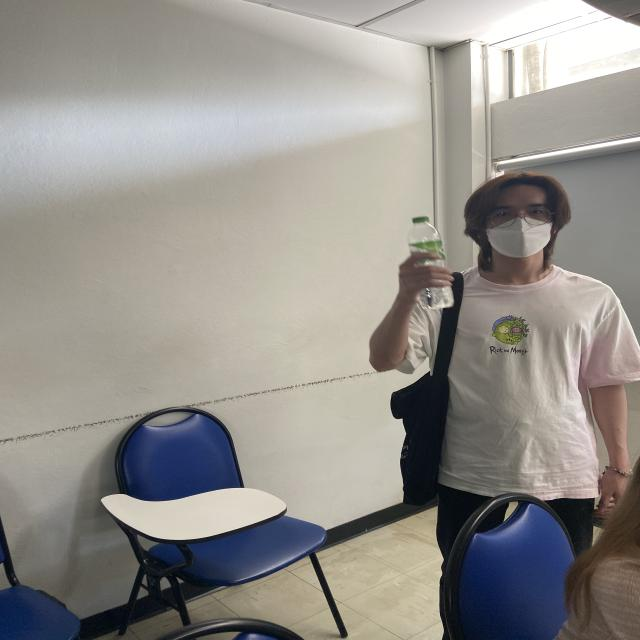bottle: (408, 215, 460, 313)
